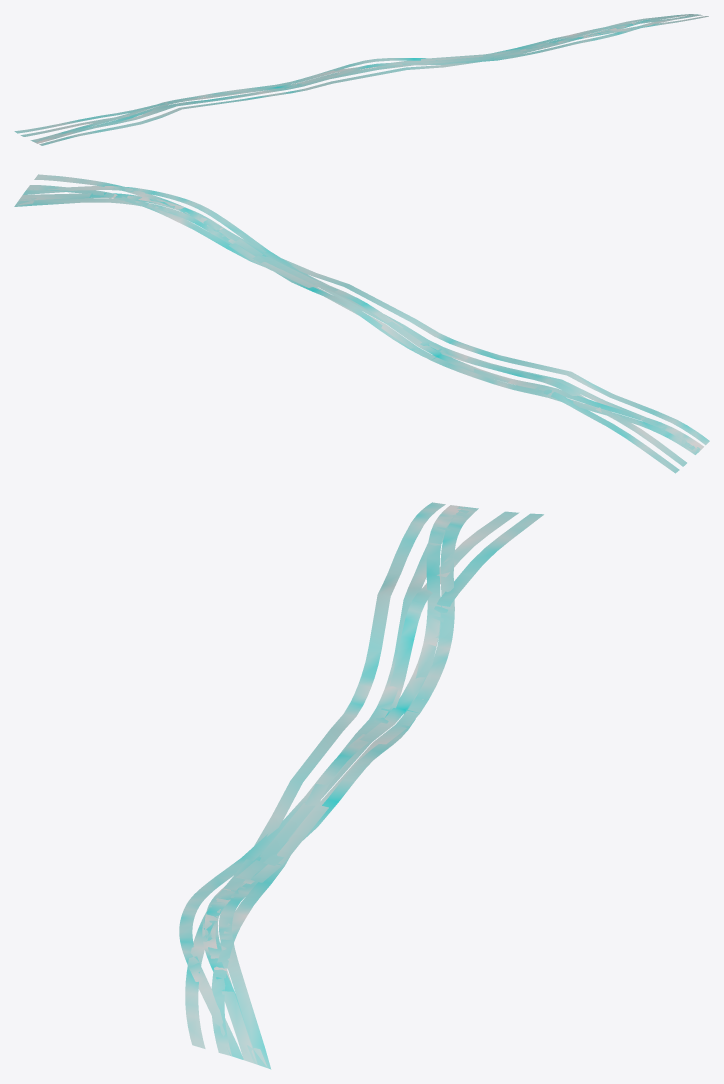
The picture shows the model from 3 angles, top to bottom: view 1: azimuth 30°, elevation 25°; view 2: azimuth 150°, elevation 25°; view 3: azimuth 270°, elevation 25°; orthographic projection. The views are drawn at different scales.
Parts seen in each view (by area): view 1: SpaceCenter_Long3_GenerateRoad_Sand_TireTracks_Narrow_Mesh_x; view 2: SpaceCenter_Long3_GenerateRoad_Sand_TireTracks_Narrow_Mesh_x; view 3: SpaceCenter_Long3_GenerateRoad_Sand_TireTracks_Narrow_Mesh_x.
Part boxes in pixels (<box>): SpaceCenter_Long3_GenerateRoad_Sand_TireTracks_Narrow_Mesh_x: <box>14,14,708,145</box>; SpaceCenter_Long3_GenerateRoad_Sand_TireTracks_Narrow_Mesh_x: <box>14,174,709,473</box>; SpaceCenter_Long3_GenerateRoad_Sand_TireTracks_Narrow_Mesh_x: <box>179,502,543,1069</box>.
Bounding box in the file's own units: 600 × 2304 × 137.
